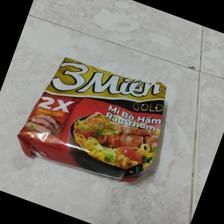3mien: (15, 56, 168, 183)
